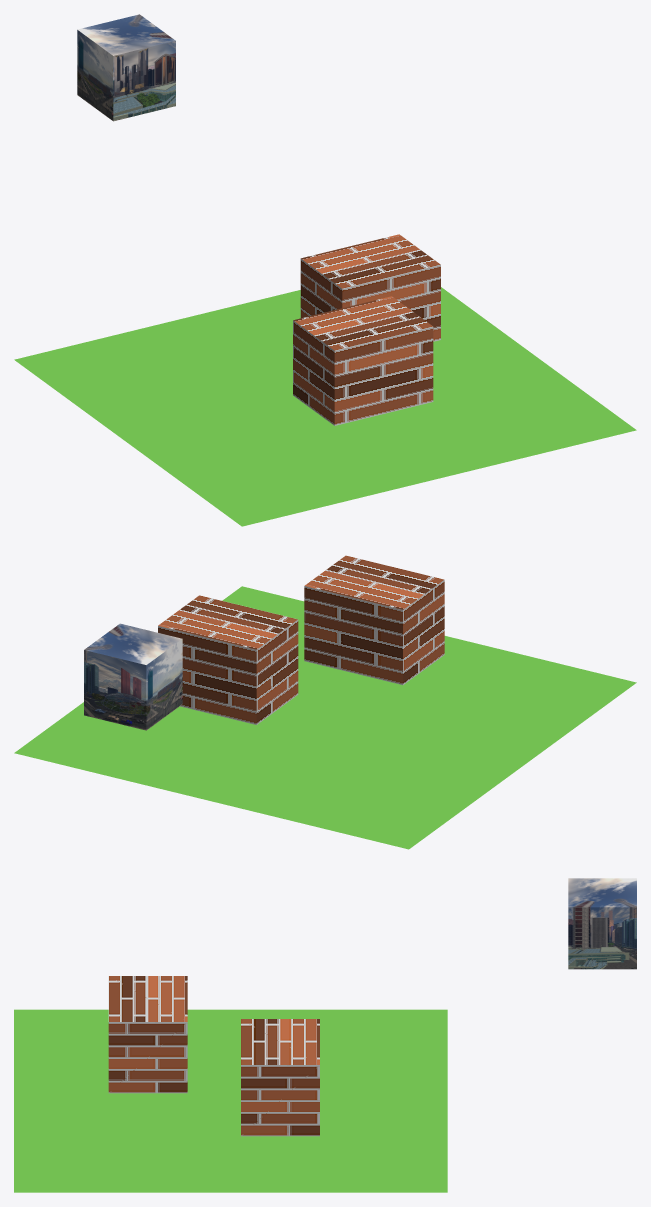
3 renders of one model, top to bottom at view 1: azimuth 30°, elevation 25°; view 2: azimuth 150°, elevation 25°; view 3: azimuth 270°, elevation 25°, orthographic. The views are drawn at different scales.
Parts seen in each view (by area): view 1: Floor, Block, Block2, Skybox; view 2: Floor, Block, Block2, Skybox; view 3: Floor, Block, Block2, Skybox.
Part boxes in pixels (left/top/right/bottom): Floor: left=14, top=287, right=636, bottom=526; Block: left=293, top=296, right=433, bottom=425; Block2: left=300, top=234, right=440, bottom=341; Skybox: left=77, top=14, right=175, bottom=121; Floor: left=14, top=586, right=636, bottom=849; Block: left=304, top=555, right=444, bottom=684; Block2: left=158, top=595, right=298, bottom=724; Skybox: left=84, top=623, right=182, bottom=730; Floor: left=14, top=1009, right=447, bottom=1192; Block: left=108, top=976, right=187, bottom=1093; Block2: left=241, top=1019, right=319, bottom=1136; Skybox: left=568, top=878, right=636, bottom=969.
Size of the model in its own units: 12.63 by 6.65 by 18.15.
3 materials, 3 textured.
